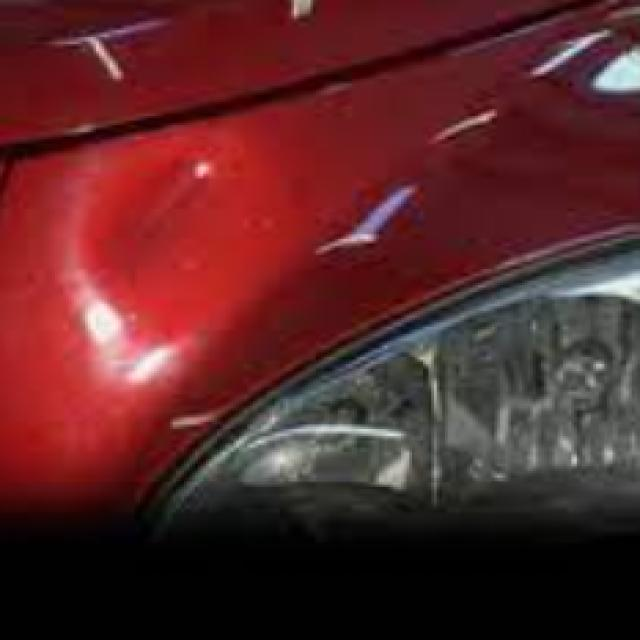dents: (86, 142, 290, 346)
